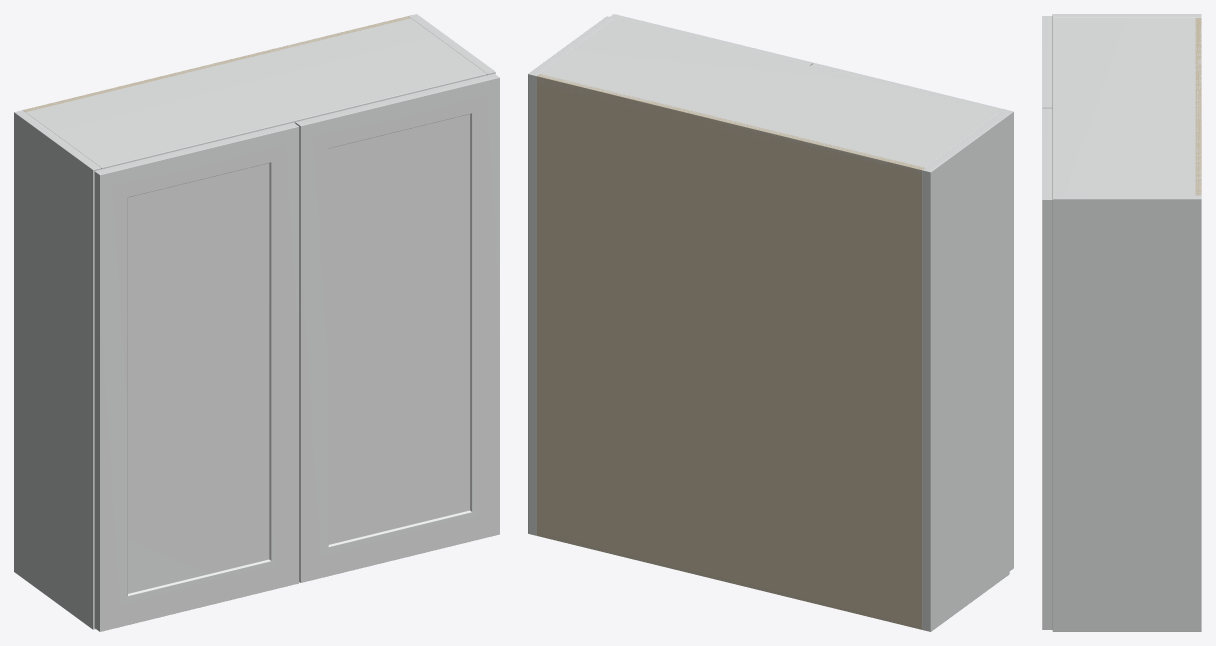
The model's file is PLY-WSS-W3036.glb.
The picture shows the model from 3 angles, left to right: view 1: azimuth 30°, elevation 25°; view 2: azimuth 150°, elevation 25°; view 3: azimuth 270°, elevation 25°; orthographic projection. The views are drawn at different scales.
Visible parts, largest first — view 1: Shaker door, Shaker door.001, Carcass left, Carcass top, Carcass back, Carcass right; view 2: Carcass back, Carcass left, Carcass top, Carcass right, Shaker door, Carcass bottom, Shaker door.001; view 3: Carcass right, Carcass top, Shaker door.001, Carcass back, Shaker door, Carcass left.
Boxes of the visible parts, x1=… form: Shaker door: x1=94, y1=122, x2=299, y2=631; Shaker door.001: x1=295, y1=73, x2=499, y2=582; Carcass left: x1=14, y1=110, x2=101, y2=629; Carcass top: x1=23, y1=16, x2=486, y2=169; Carcass back: x1=23, y1=16, x2=410, y2=112; Carcass right: x1=408, y1=14, x2=495, y2=75; Carcass back: x1=536, y1=74, x2=924, y2=629; Carcass left: x1=922, y1=112, x2=1009, y2=631; Carcass top: x1=537, y1=18, x2=1000, y2=176; Carcass right: x1=528, y1=16, x2=614, y2=535; Shaker door: x1=811, y1=63, x2=1013, y2=570; Carcass bottom: x1=537, y1=528, x2=921, y2=629; Shaker door.001: x1=610, y1=14, x2=813, y2=65; Carcass right: x1=1052, y1=195, x2=1201, y2=631; Carcass top: x1=1052, y1=18, x2=1201, y2=195; Shaker door.001: x1=1042, y1=108, x2=1052, y2=629; Carcass back: x1=1195, y1=18, x2=1201, y2=195; Shaker door: x1=1042, y1=16, x2=1052, y2=108; Carcass left: x1=1052, y1=14, x2=1201, y2=17.
Size of the model in its own units: 0.8382 by 0.9144 by 0.3048.
